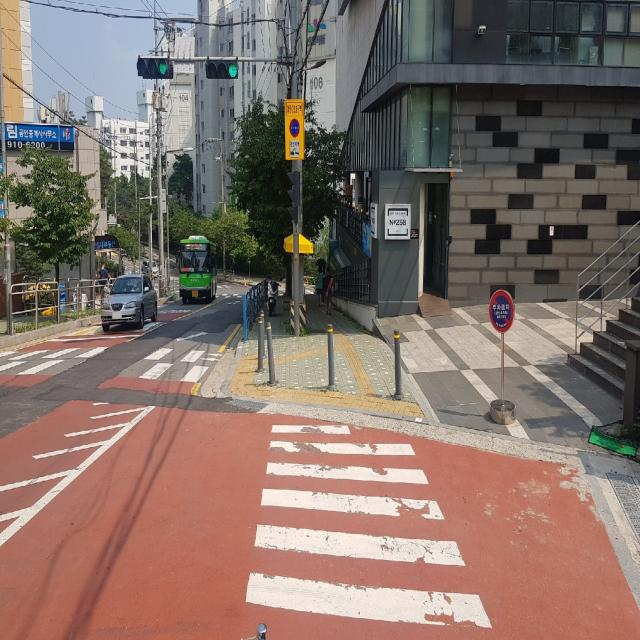횡단보도: (246, 426, 492, 628), (0, 332, 225, 386)
